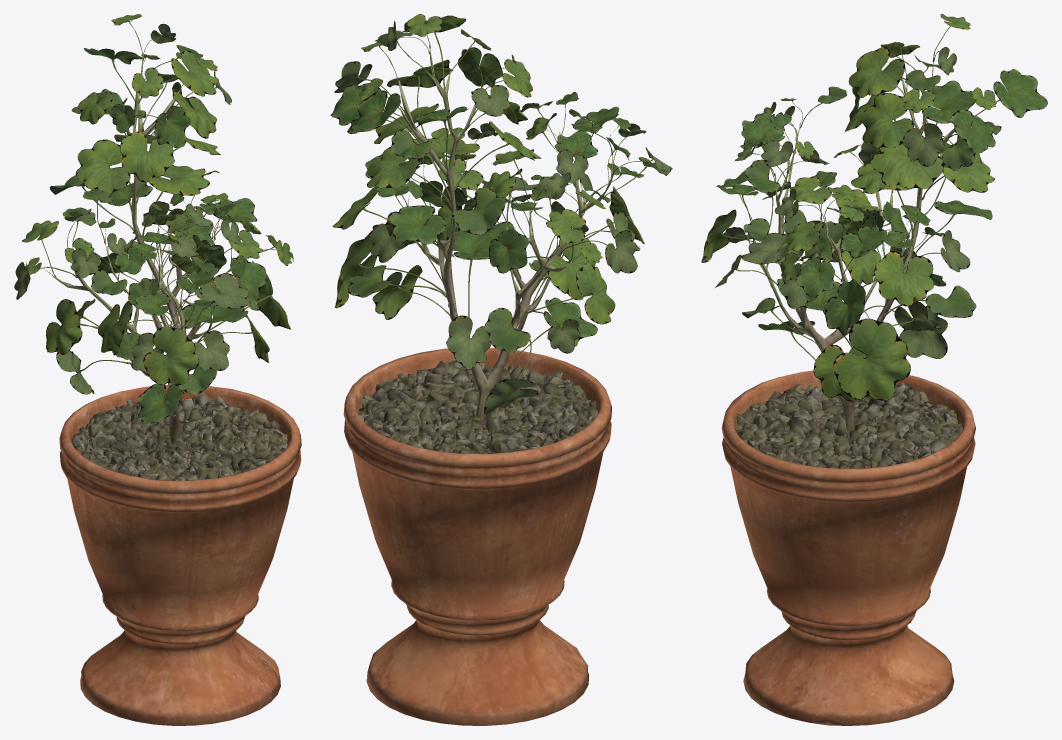
The model's file is potted-plant-01.glb.
The picture shows the model from 3 angles, left to right: view 1: azimuth 30°, elevation 25°; view 2: azimuth 150°, elevation 25°; view 3: azimuth 270°, elevation 25°; orthographic projection. The views are drawn at different scales.
Parts seen in each view (by area): view 1: potted_plant_01_stem, potted_plant_01_leaves; view 2: potted_plant_01_stem, potted_plant_01_leaves; view 3: potted_plant_01_stem, potted_plant_01_leaves.
Part boxes in pixels (x1,y1,x2,y2): potted_plant_01_stem: (54,54,301,725); potted_plant_01_leaves: (14,14,293,424); potted_plant_01_stem: (343,49,613,725); potted_plant_01_leaves: (330,14,672,414); potted_plant_01_stem: (721,55,975,725); potted_plant_01_leaves: (701,14,1047,401).
Size of the model in its own units: 0.5874 by 1.34 by 0.6336.
Materials: 2 (2 with a texture image).
